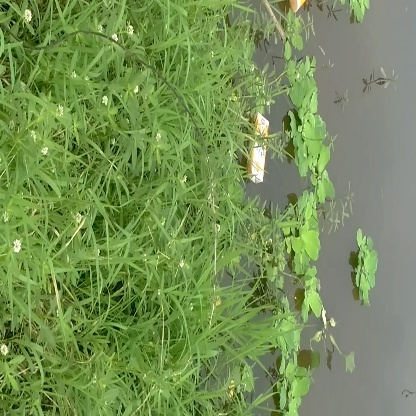milk-box: (242, 113, 277, 185)
